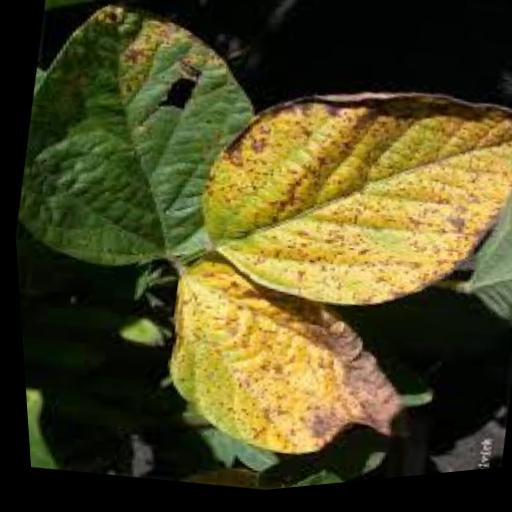Septoria: (179, 34, 512, 353), (0, 0, 287, 307), (127, 236, 428, 493)
